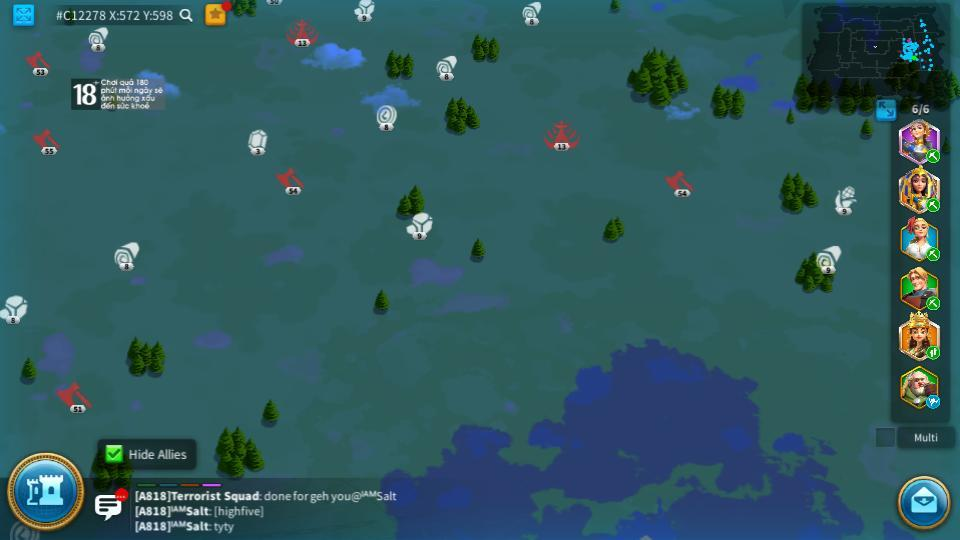gem-z-out: (246, 128, 268, 154)
march_idle: (925, 396, 942, 408)
march_marching: (925, 197, 941, 212), (925, 347, 941, 359), (925, 150, 941, 162), (925, 297, 942, 308)
